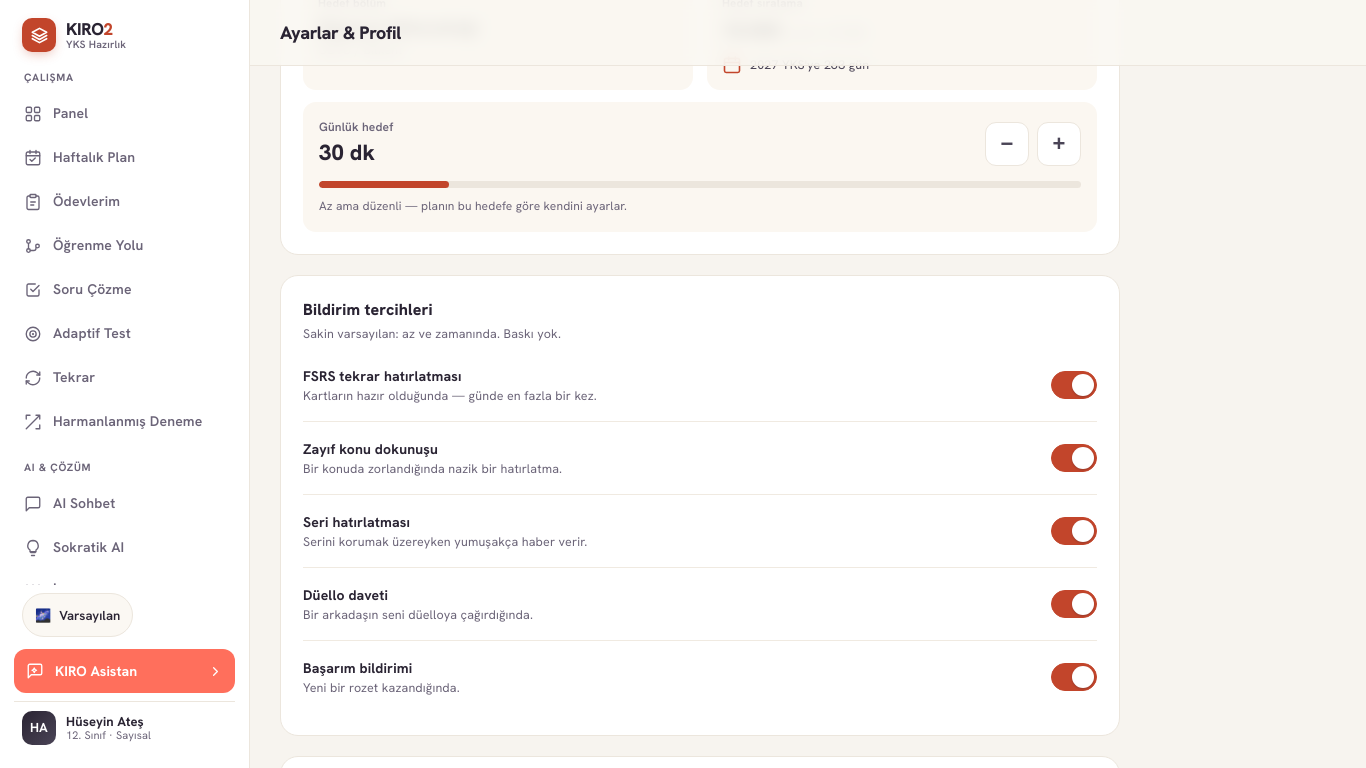
Test: AyarlarPage › 5 bildirim anahtarı render eder ve toggle store'a yazar + "Kaydedildi" flash
(page scrolled)
Check: the switch named "Zayıf konu dokunuşu" is shown, box x1=1051 y1=436 x2=1097 y2=480
Check: the switch named "Seri hatırlatması" is shown, box x1=1051 y1=509 x2=1097 y2=553
Click the switch named "FSRS tekrar hatırlatması" at (1074, 385), box x1=1051 y1=363 x2=1097 y2=407
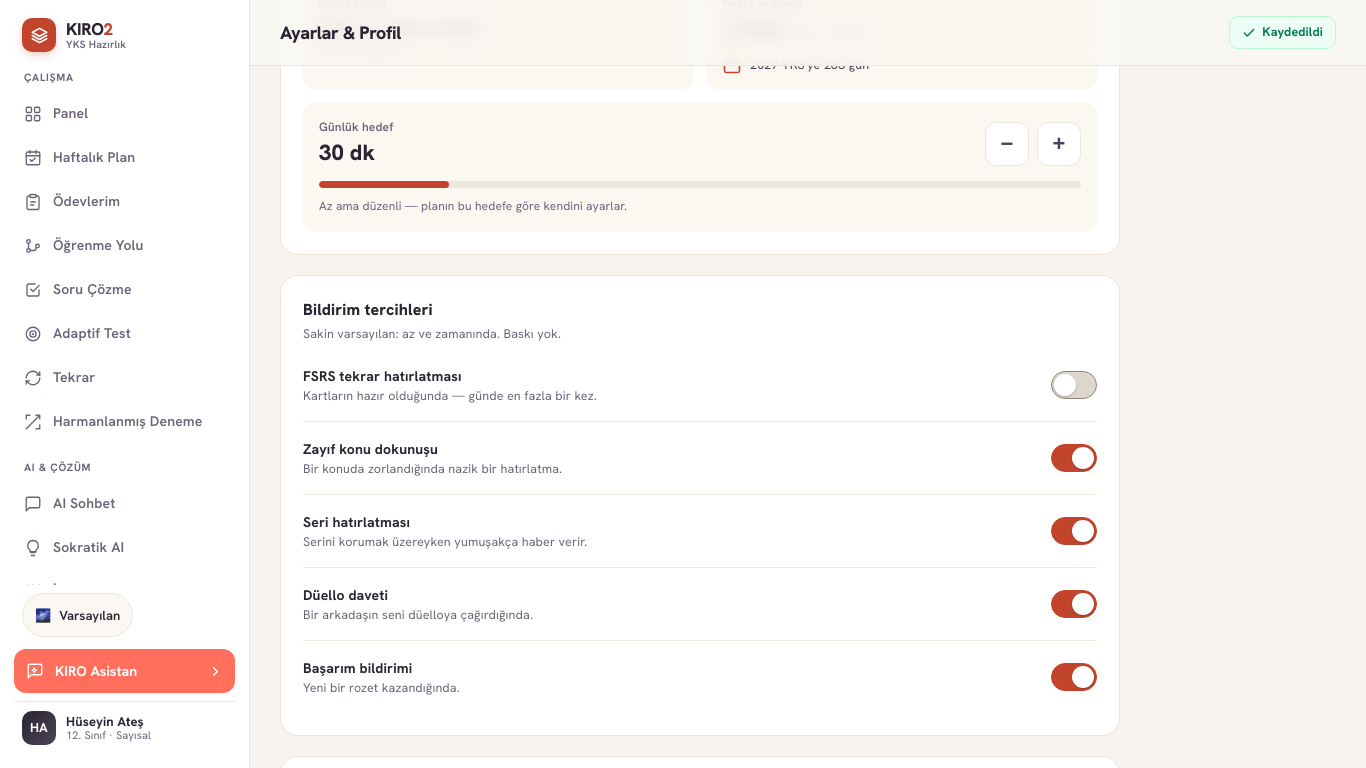
Check: the text "Kaydedildi" is shown, box x1=1229 y1=16 x2=1336 y2=49
